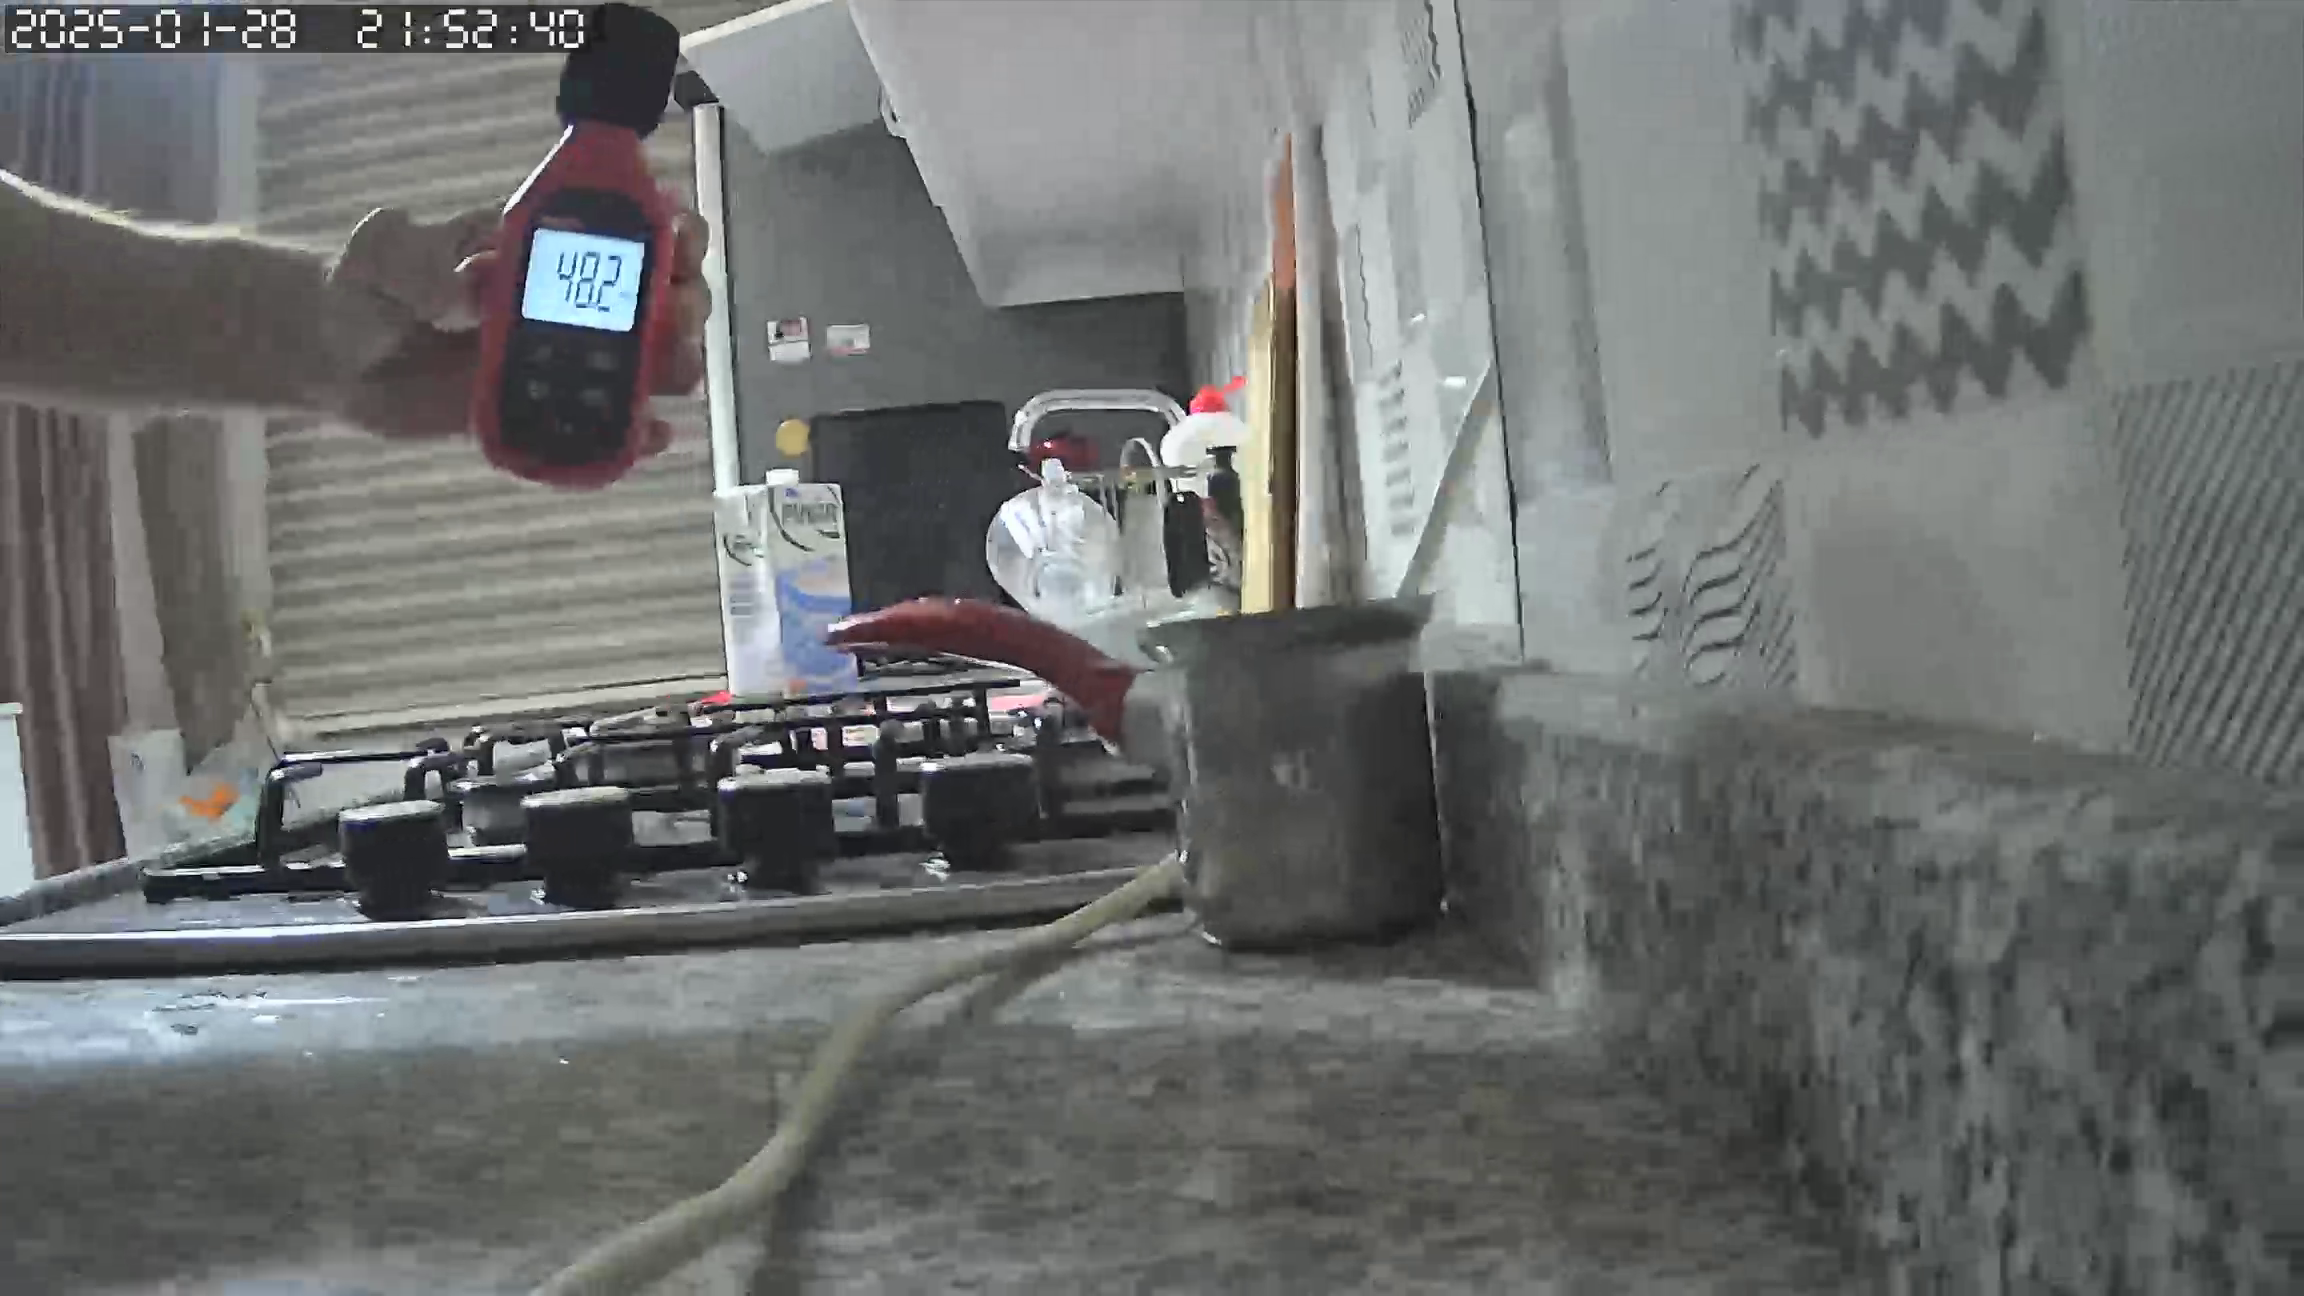screen: (517, 225, 647, 331)
